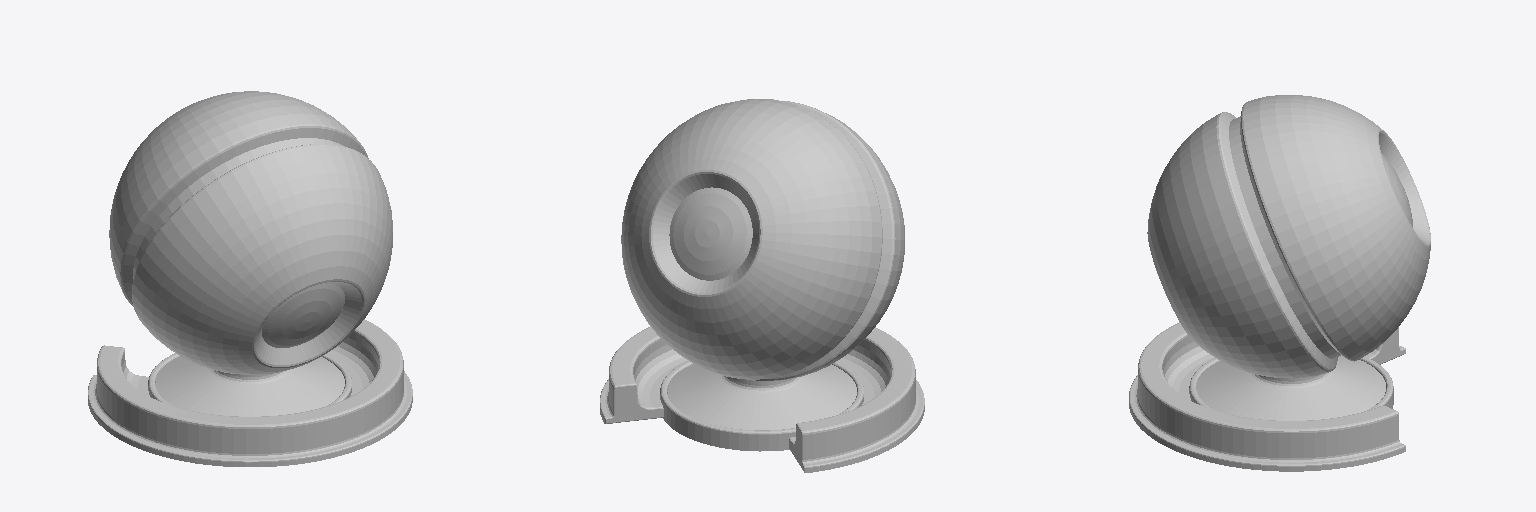
Rendered from material_knob.obj.
3 views of the same model, side by side, from view 1: azimuth 30°, elevation 25°; view 2: azimuth 150°, elevation 25°; view 3: azimuth 270°, elevation 25° (orthographic).
Parts seen in each view (by area): view 1: Material_Sphere.001; view 2: Material_Sphere.001; view 3: Material_Sphere.001.
Part boxes in pixels (left/top/right/bottom): Material_Sphere.001: left=88, top=91, right=412, bottom=466; Material_Sphere.001: left=600, top=99, right=924, bottom=472; Material_Sphere.001: left=1129, top=95, right=1430, bottom=471.
Bounding box in the file's own units: 1.34 × 1.35 × 1.25.